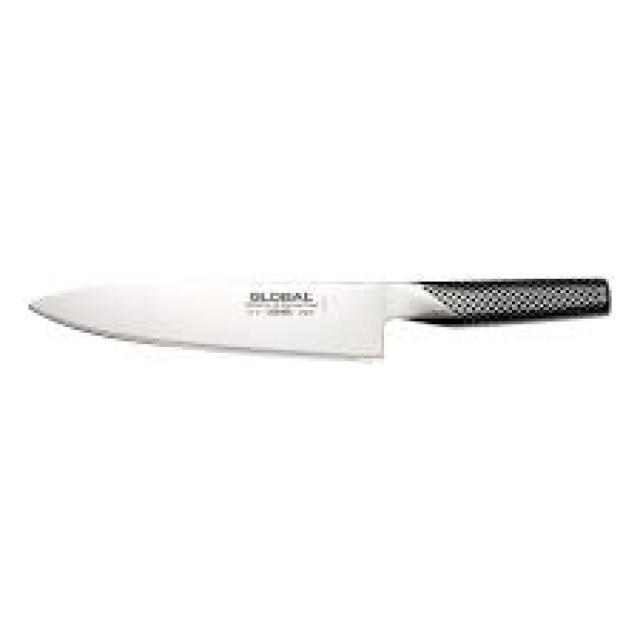knife: (25, 273, 613, 373)
